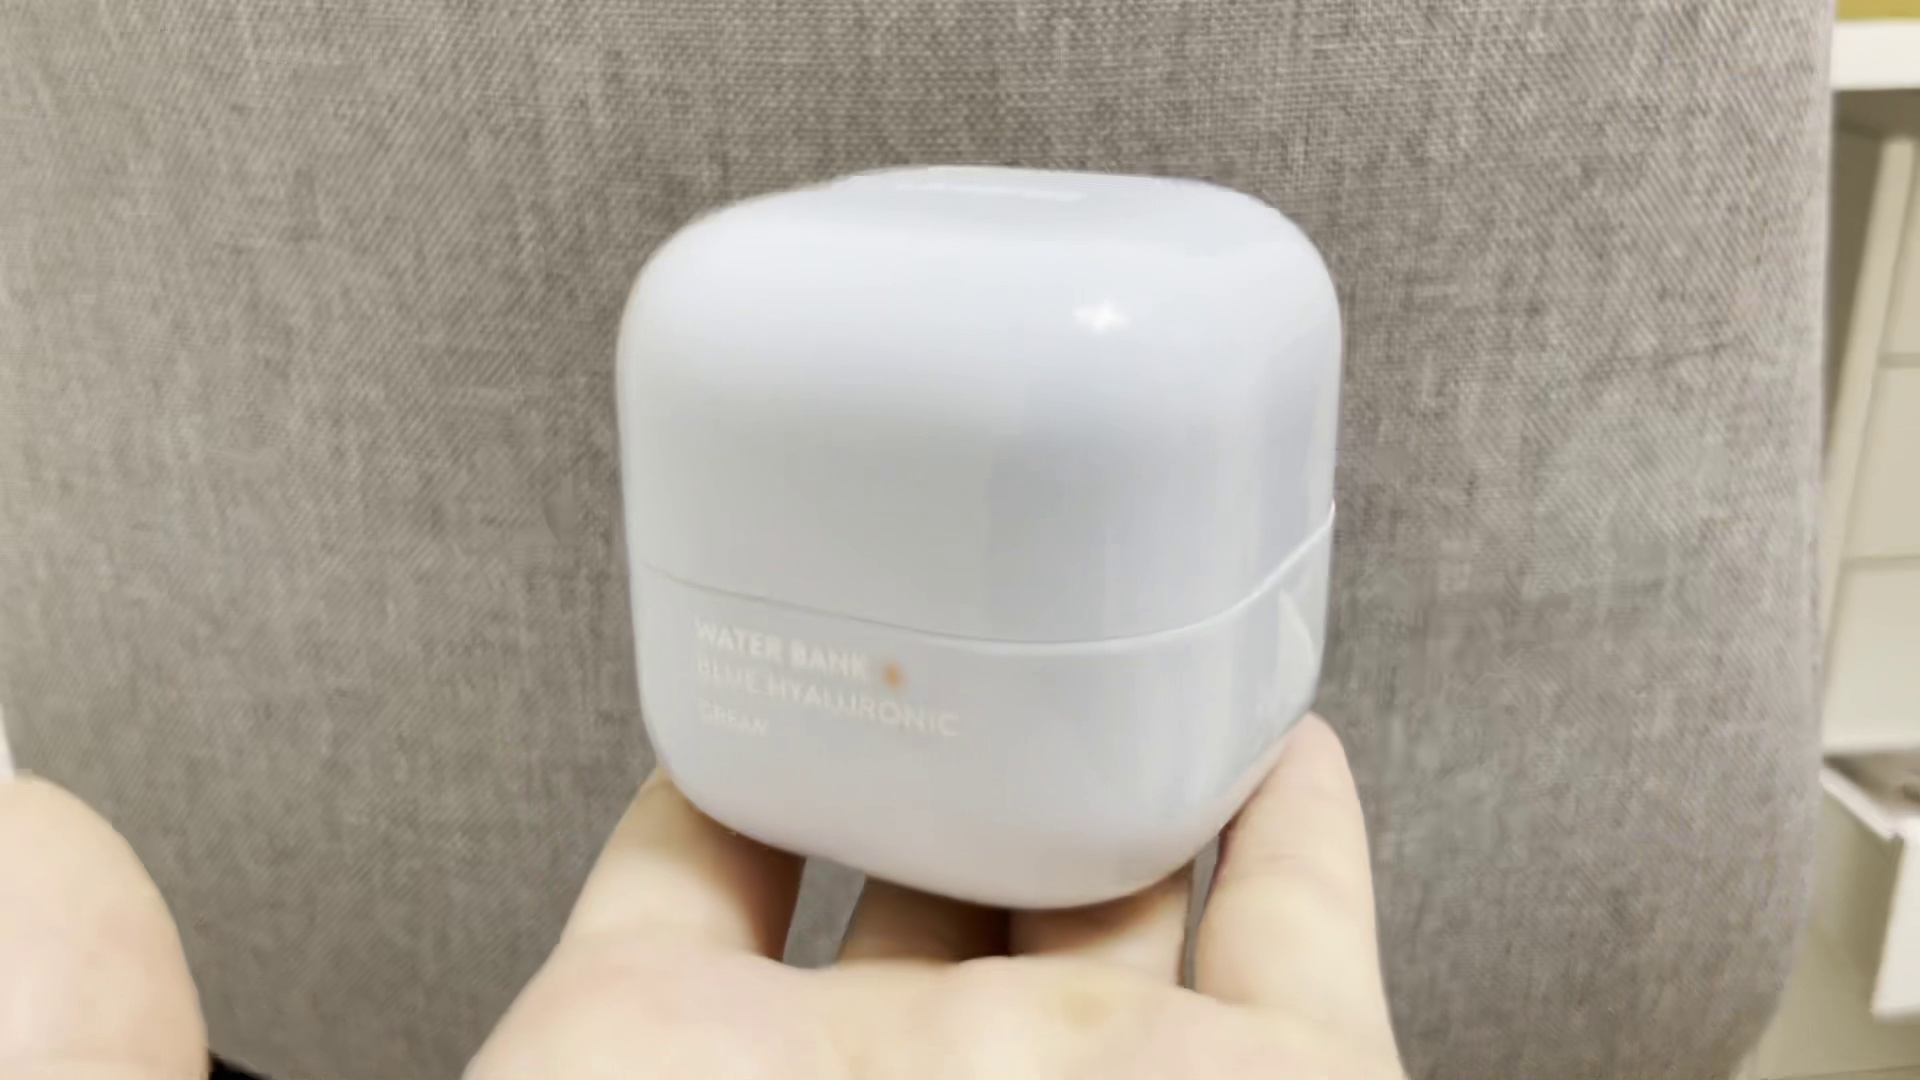cream: (620, 167, 1336, 914)
